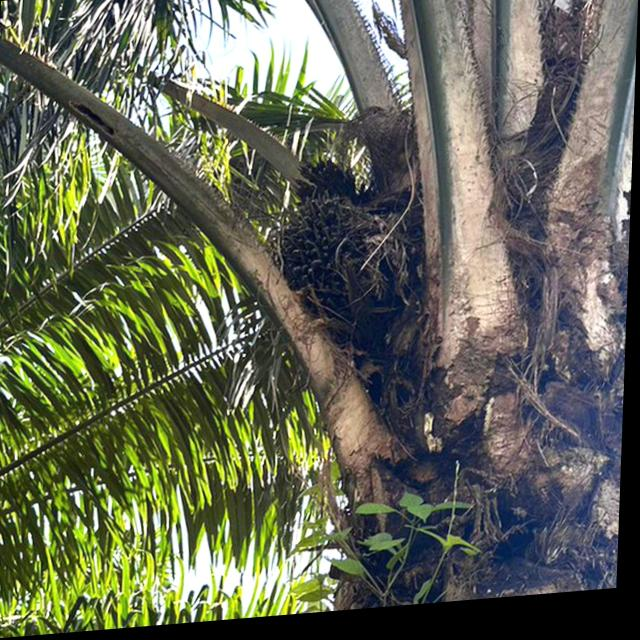ripe: (268, 194, 392, 334)
